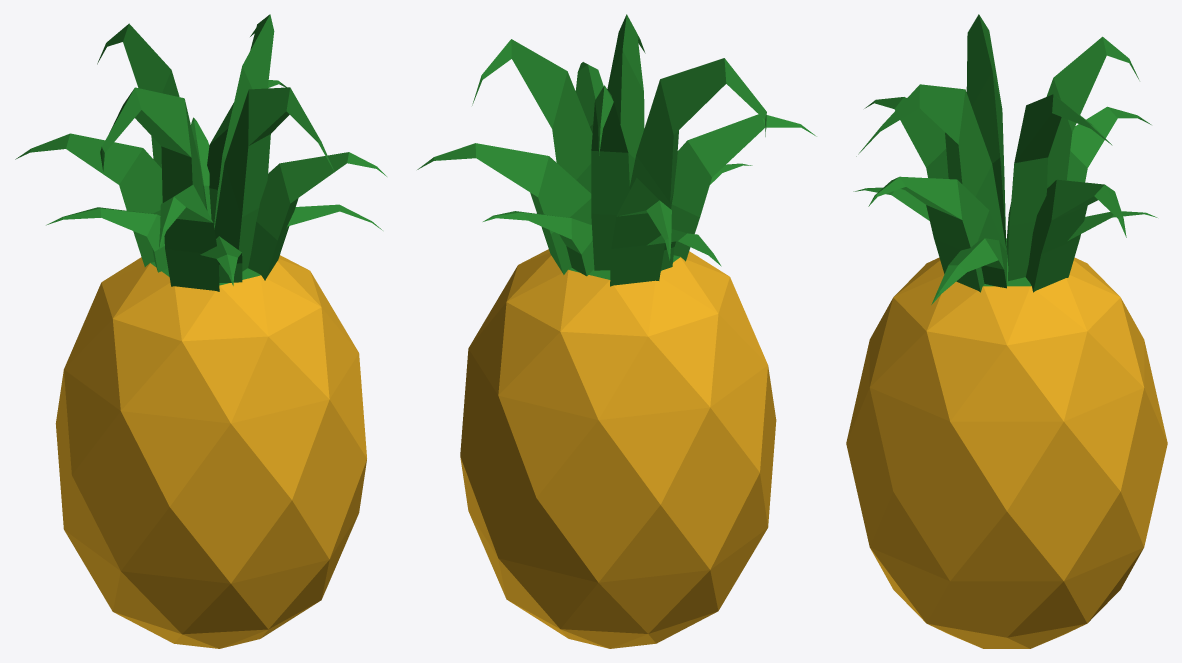
Rendered from anananas.fbx.
The picture shows the model from 3 angles, left to right: view 1: azimuth 30°, elevation 25°; view 2: azimuth 150°, elevation 25°; view 3: azimuth 270°, elevation 25°; orthographic projection.
Visible parts, largest first — view 1: anananas-top, anananas-bottom; view 2: anananas-top, anananas-bottom; view 3: anananas-top, anananas-bottom.
Part boxes in pixels (x1,y1,x2,y2): anananas-top: (15, 14, 386, 506); anananas-bottom: (62, 364, 366, 648); anananas-top: (417, 14, 816, 606); anananas-bottom: (466, 378, 776, 648); anananas-top: (853, 14, 1167, 575); anananas-bottom: (846, 318, 1131, 648).
Bounding box in the file's own units: 60 × 120 × 60.
